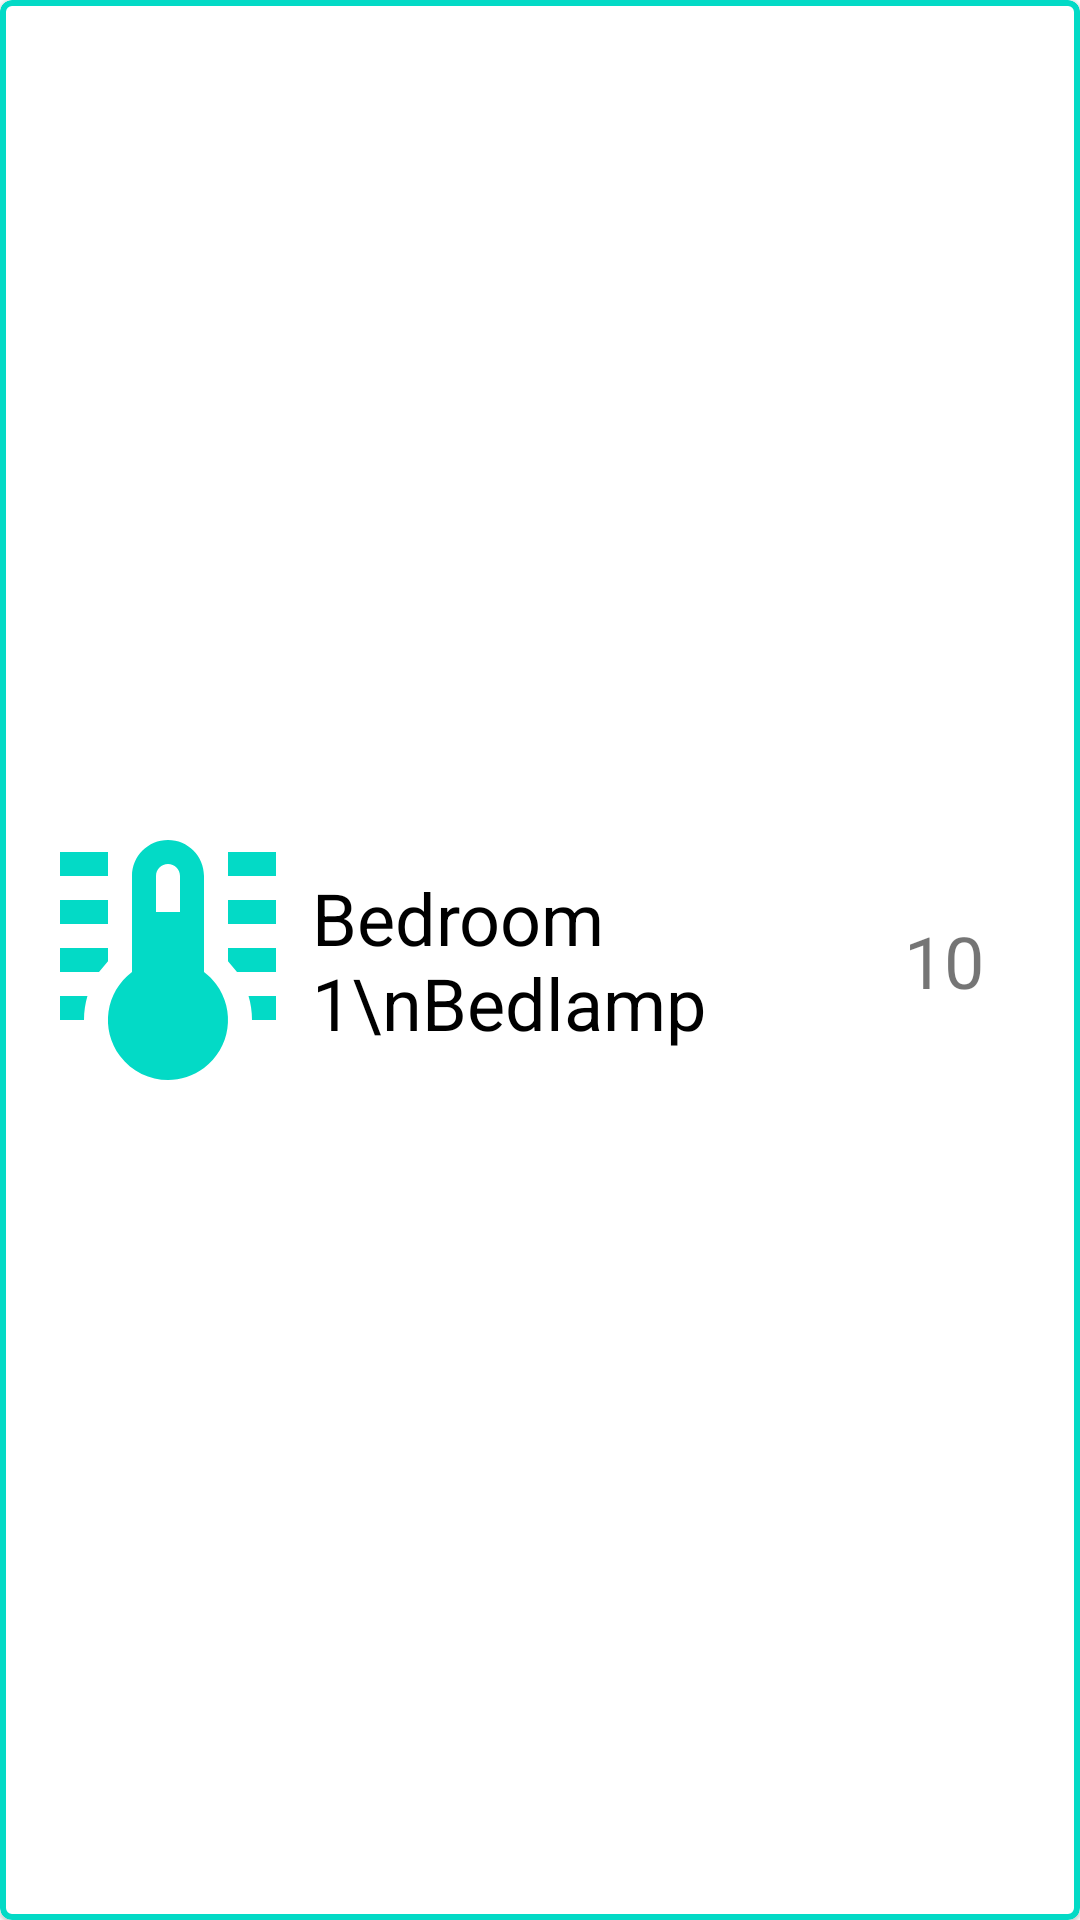

Icon click points for this 1080×1920 phone screenshot, format point (x, y):
thermometer lines: point (168, 960)
